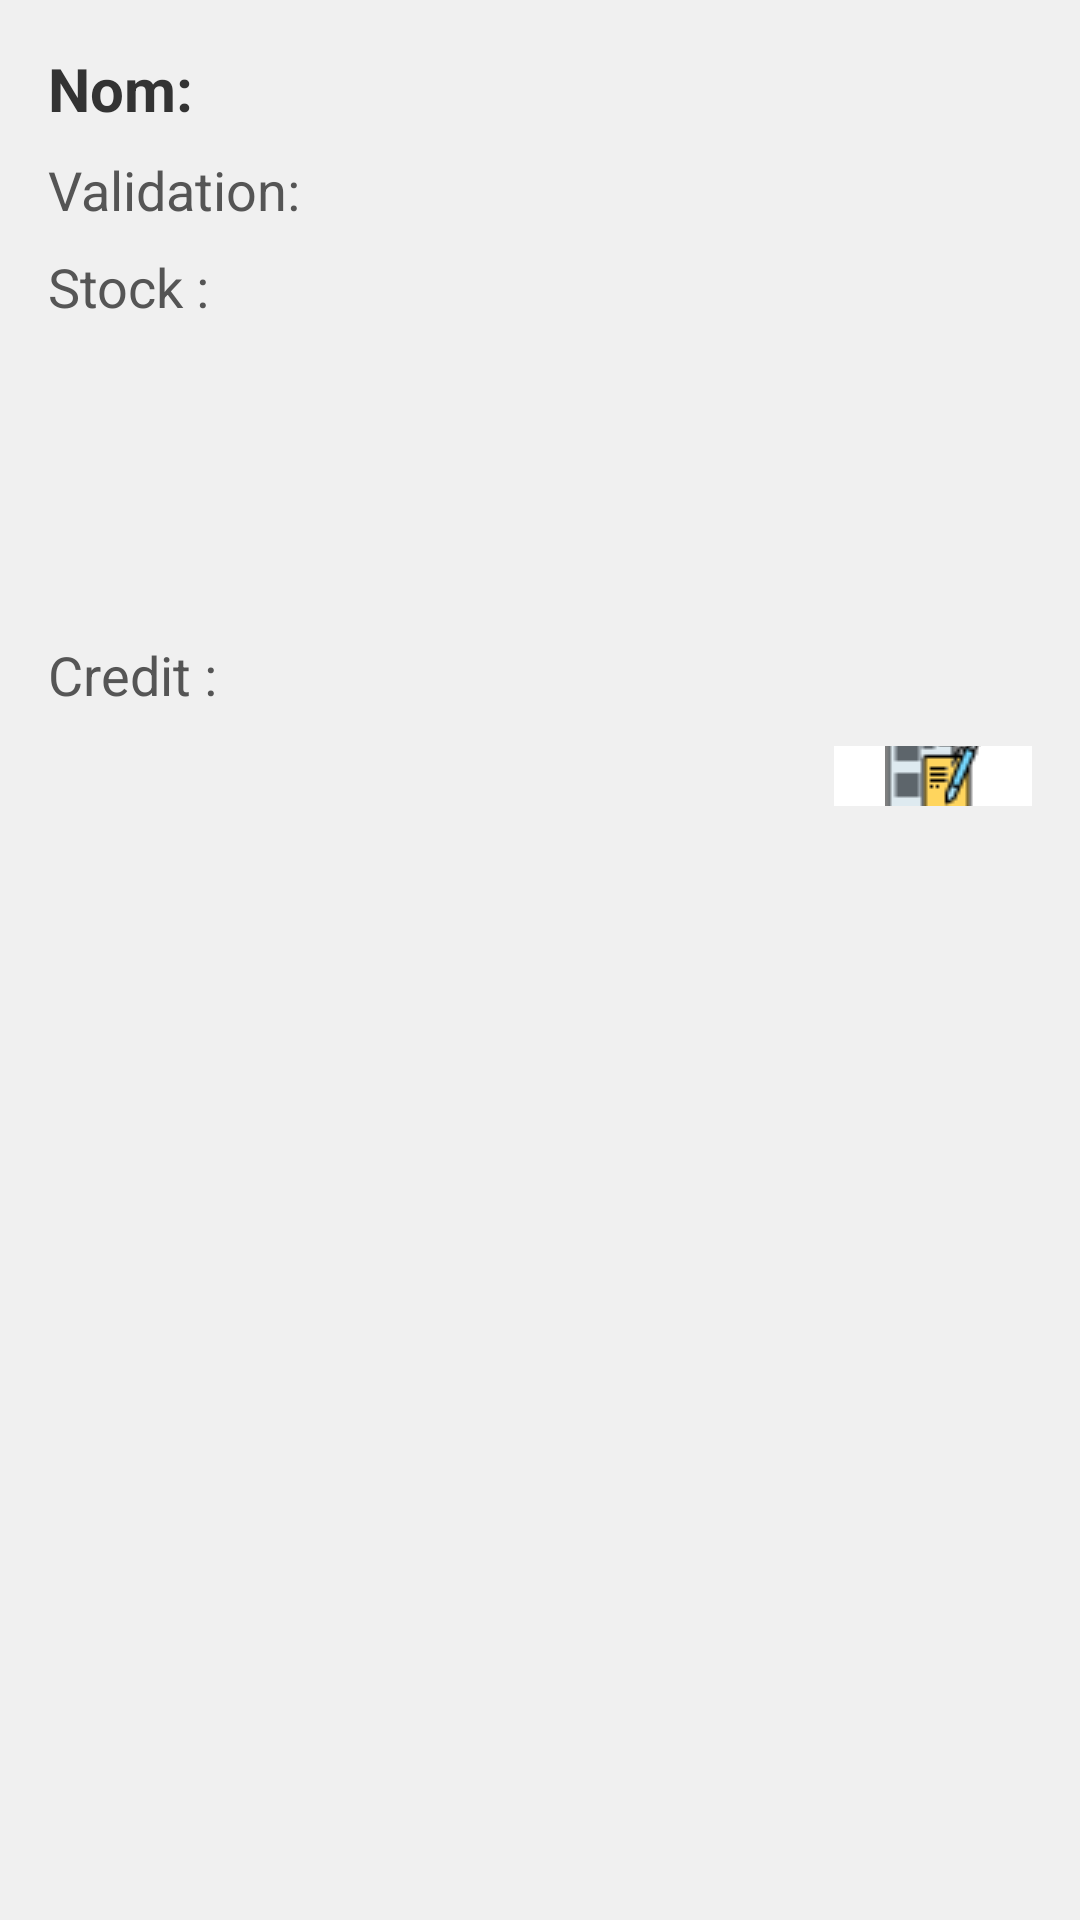

Icon bounding boxes for this 1080*1920 phone screenshot, format (x1=x1, y1=y1, x2=x2, y2=y2):
editerfinal: (x1=885, y1=746, x2=979, y2=806)
